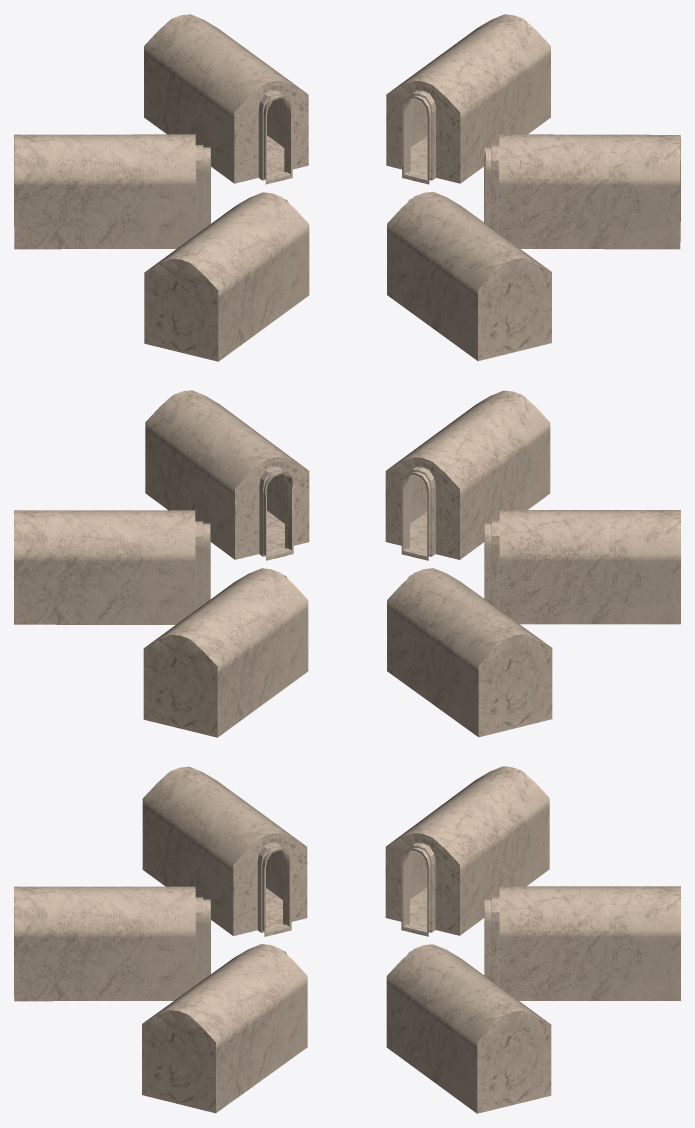
Rendered from atriumGallery_outside.fbx.
3 renders of one model, top to bottom at view 1: azimuth 30°, elevation 25°; view 2: azimuth 150°, elevation 25°; view 3: azimuth 270°, elevation 25°, orthographic.
Parts seen in each view (by area): view 1: WHITEROOM.outside.005, WHITEROOM.outside.002, WHITEROOM.outside.004, WHITEROOM.outside.003, WHITEROOM.outside.001, WHITEROOM.outside; view 2: WHITEROOM.outside.001, WHITEROOM.outside.004, WHITEROOM.outside, WHITEROOM.outside.005, WHITEROOM.outside.003, WHITEROOM.outside.002; view 3: WHITEROOM.outside, WHITEROOM.outside.003, WHITEROOM.outside.001, WHITEROOM.outside.002, WHITEROOM.outside.005, WHITEROOM.outside.004.
Part boxes in pixels (box(x1,y1,x2,y2)): WHITEROOM.outside.005: box(14, 134, 210, 249); WHITEROOM.outside.002: box(484, 134, 680, 249); WHITEROOM.outside.004: box(144, 192, 309, 361); WHITEROOM.outside.003: box(387, 191, 551, 360); WHITEROOM.outside.001: box(386, 14, 550, 184); WHITEROOM.outside: box(144, 14, 308, 184); WHITEROOM.outside.001: box(14, 510, 210, 624); WHITEROOM.outside.004: box(484, 510, 680, 624); WHITEROOM.outside: box(143, 568, 308, 737); WHITEROOM.outside.005: box(387, 568, 552, 737); WHITEROOM.outside.003: box(385, 390, 550, 560); WHITEROOM.outside.002: box(145, 390, 309, 560); WHITEROOM.outside: box(484, 886, 680, 1000); WHITEROOM.outside.003: box(14, 886, 210, 1001); WHITEROOM.outside.001: box(386, 944, 551, 1113); WHITEROOM.outside.002: box(142, 944, 307, 1113); WHITEROOM.outside.005: box(385, 766, 549, 936); WHITEROOM.outside.004: box(142, 766, 307, 936).
Size of the model in its own units: 8002 by 1337 by 8595.
Materials: 2 (2 with a texture image).
